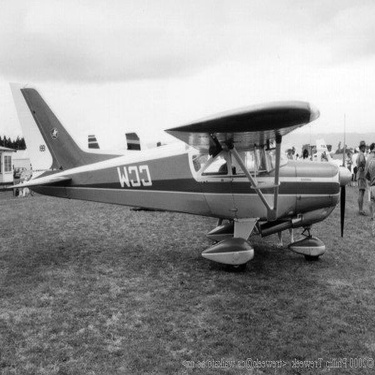airplane: (9, 55, 358, 287)
